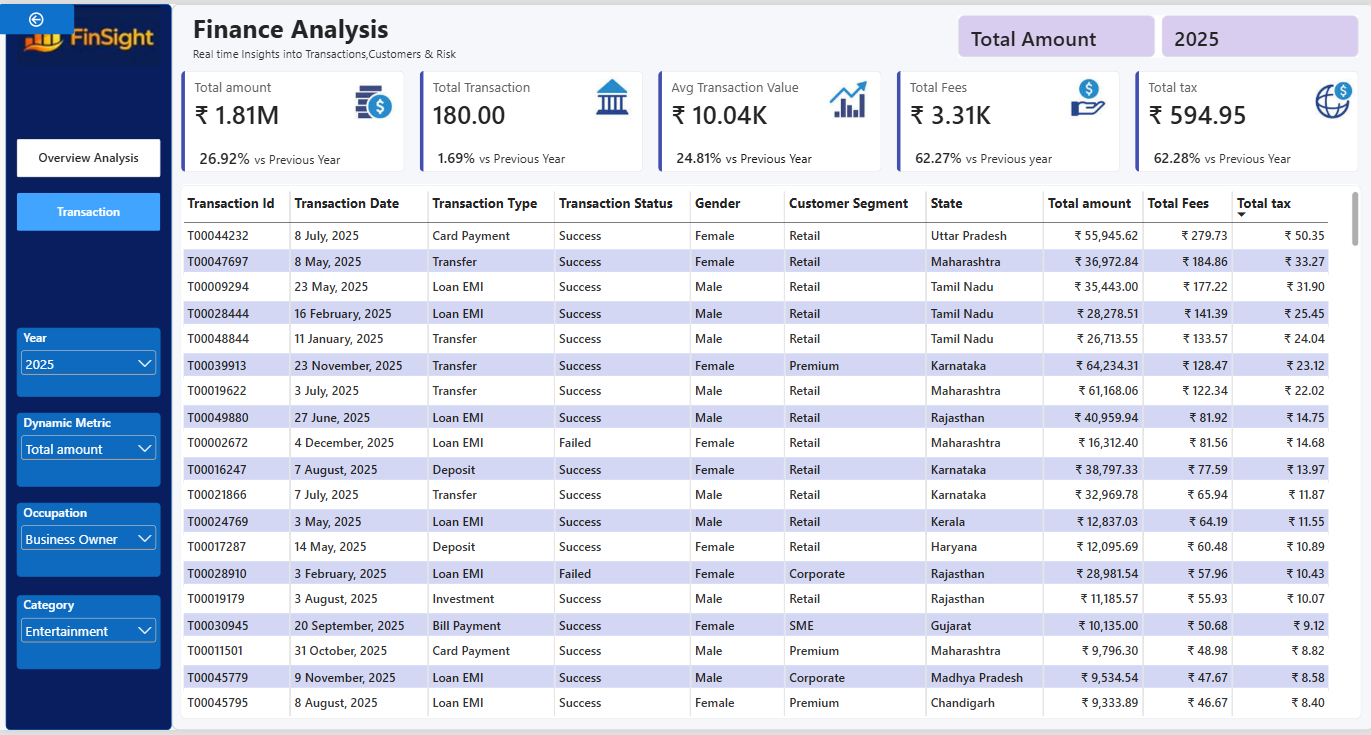

The page's visual inventory and layout, read from the dashboard file:
{"tool":"powerbi","page":{"name":"Transaction","canvas":[1800,950],"ordinal":1},"visuals":[{"type":"shape","box":[9.8,0,217.5,950],"z":0},{"type":"shape","box":[227.9,0,1573,950],"z":1000},{"type":"cardVisual","fields":{"Data":["finance_transactions.Dashboard Title"]},"box":[238.7,0,397.3,86.7],"z":2000},{"type":"cardVisual","fields":{"Data":["finance_transactions.Total amount","finance_transactions.Total Transaction","finance_transactions.Avg transaction Value","finance_transactions.total Fees","finance_transactions.Total tax"]},"box":[238.7,86.7,1543.6,134.1],"z":3000},{"type":"image","box":[24.5,0,188,83.4],"z":4000},{"type":"image","box":[454.6,93.2,71.9,60.5],"z":5000},{"type":"image","box":[768.5,93.2,71.9,60.5],"z":6000},{"type":"image","box":[1079.2,93.2,71.9,60.5],"z":7000},{"type":"image","box":[1389.9,94.8,71.9,60.5],"z":8000},{"type":"image","box":[1710.4,94.8,71.9,60.5],"z":9000},{"type":"shape","box":[238,236.3,1543.4,698.4],"z":10000},{"type":"cardVisual","fields":{"Data":["finance_transactions.Dynamic slected measure","finance_transactions.Selected Year"]},"box":[1255.4,15.5,526,55.2],"z":11000},{"type":"tableEx","fields":{"Values":["finance_transactions.transaction_id","finance_transactions.transaction_date","finance_transactions.transaction_type","finance_transactions.transaction_status","customers.gender","customers.customer_segment","customers.state","finance_transactions.Total amount","finance_transactions.Total Fees","finance_transactions.Total tax"]},"box":[238.5,236.8,1544.4,698.2],"z":12000},{"type":"actionButton","box":[0,0,100,40],"z":13000},{"type":"pageNavigator","box":[24.4,175.9,188,121.9],"z":14000},{"type":"slicer","fields":{"Values":["Calendar table.Year"]},"box":[24.6,423.1,187.9,90.6],"z":14000,"group":"g1"},{"type":"group","id":"g1","title":"Group 1","box":[24.4,423.1,188,445.7],"z":15000},{"type":"slicer","fields":{"Values":["Dynamic Metric.Dynamic Metric"]},"box":[24.4,534.6,187.9,96.4],"z":15000,"group":"g1"},{"type":"slicer","fields":{"Values":["customers.occupation"]},"box":[24.4,652.4,187.9,96.4],"z":16000,"group":"g1"},{"type":"slicer","fields":{"Values":["finance_transactions.merchant_category"]},"box":[24.4,772.4,187.9,96.4],"z":17000,"group":"g1"}]}

Visuals, with their boxes on the page's 1800x950 design canvas (x1, y1, x2, y2). These are canvas units, not pixel positions in the 1371x735 screenshot, which may show the page scaled, cropped or inside an application window:
shape: x1=10 y1=0 x2=227 y2=950
shape: x1=228 y1=0 x2=1801 y2=950
cardVisual - finance_transactions.Dashboard Title: x1=239 y1=0 x2=636 y2=87
cardVisual - finance_transactions.Total amount x finance_transactions.Total Transaction: x1=239 y1=87 x2=1782 y2=221
image: x1=24 y1=0 x2=212 y2=83
image: x1=455 y1=93 x2=526 y2=154
image: x1=768 y1=93 x2=840 y2=154
image: x1=1079 y1=93 x2=1151 y2=154
image: x1=1390 y1=95 x2=1462 y2=155
image: x1=1710 y1=95 x2=1782 y2=155
shape: x1=238 y1=236 x2=1781 y2=935
cardVisual - finance_transactions.Dynamic slected measure x finance_transactions.Selected Year: x1=1255 y1=16 x2=1781 y2=71
tableEx - finance_transactions.transaction_id x finance_transactions.transaction_date: x1=238 y1=237 x2=1783 y2=935
actionButton: x1=0 y1=0 x2=100 y2=40
pageNavigator: x1=24 y1=176 x2=212 y2=298
slicer - Calendar table.Year: x1=25 y1=423 x2=212 y2=514
"Group 1" group: x1=24 y1=423 x2=212 y2=869
slicer - Dynamic Metric.Dynamic Metric: x1=24 y1=535 x2=212 y2=631
slicer - customers.occupation: x1=24 y1=652 x2=212 y2=749
slicer - finance_transactions.merchant_category: x1=24 y1=772 x2=212 y2=869
